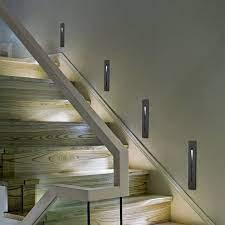Lamp: (183, 138, 202, 195), (96, 55, 117, 99), (139, 97, 153, 138), (56, 18, 69, 53)
